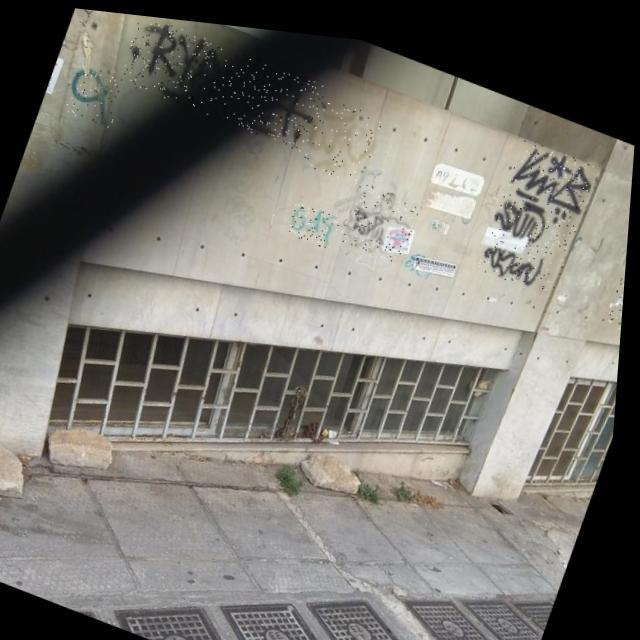-: (114, 10, 328, 146), (478, 121, 600, 288), (298, 86, 386, 180), (342, 171, 424, 256), (60, 58, 128, 128), (287, 192, 344, 242), (608, 250, 628, 322)
